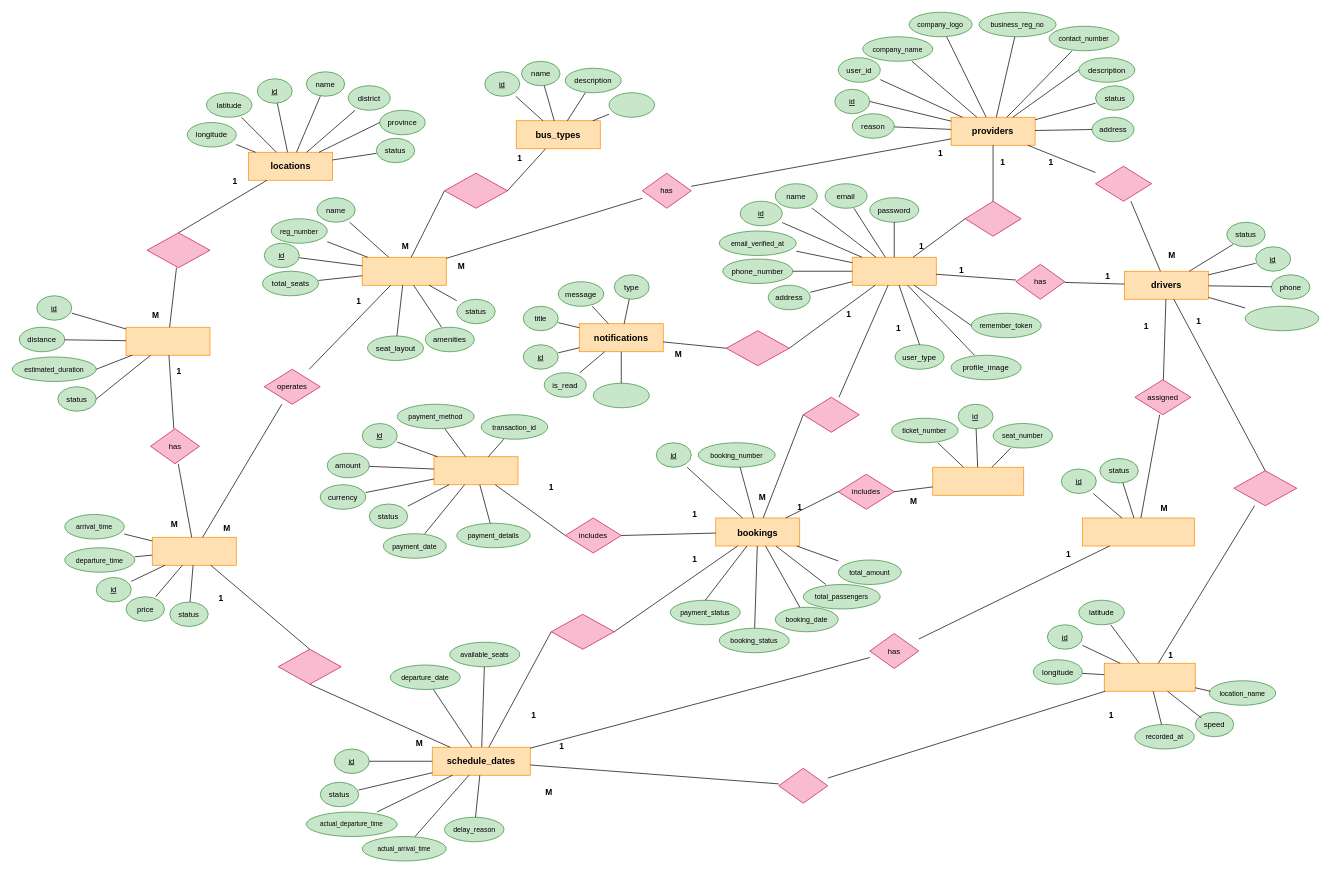
The diagram is 1331 pixels wide and 874 high, and some of its shapes have lost their labels. Each missing label, with the box of its shape:
belongs to: (146, 232, 210, 268)
booked_in: (551, 614, 614, 649)
booked_list: (278, 649, 341, 684)
broadcasts: (1233, 470, 1297, 506)
bus_locations: (1104, 663, 1195, 691)
buses: (362, 257, 446, 285)
categorizes: (444, 173, 507, 208)
driver_assignments: (1082, 517, 1194, 546)
employs: (1095, 166, 1152, 201)
features: (608, 92, 654, 117)
is a: (964, 201, 1021, 236)
license_number: (1244, 306, 1319, 331)
makes: (803, 397, 859, 432)
payments: (433, 456, 518, 485)
receives: (726, 330, 789, 366)
related_id: (593, 383, 649, 408)
routes: (125, 327, 210, 355)
schedules: (152, 537, 236, 565)
seat_bookings: (932, 467, 1024, 495)
tracks: (778, 768, 828, 803)
users: (852, 257, 936, 285)
